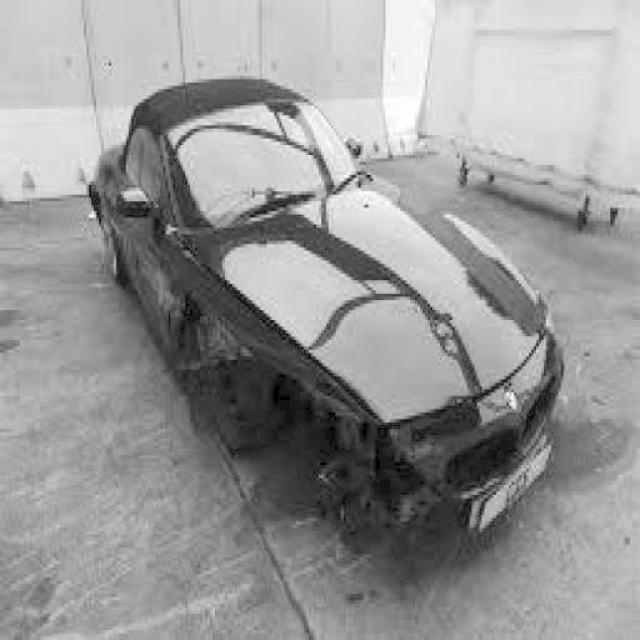car damage: (168, 259, 480, 572)
